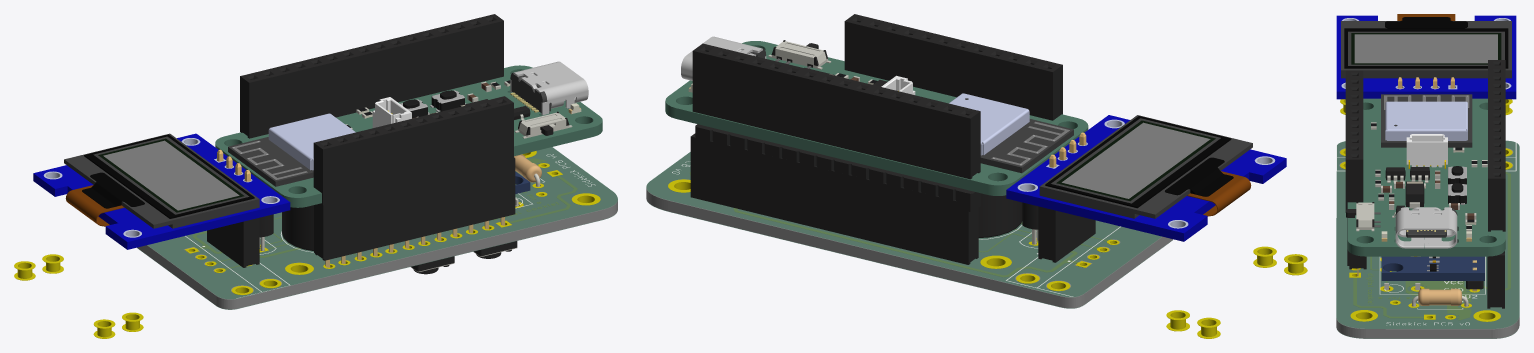
File: sidekick-min-gltfpack.glb
3 renders of one model, left to right at view 1: azimuth 30°, elevation 25°; view 2: azimuth 150°, elevation 25°; view 3: azimuth 270°, elevation 25°, orthographic. The views are drawn at different scales.
Visible parts, largest first — view 1: object 1, object 43, U1 (×2), J2, object 38, object 33, J4, SW2, SW1; view 2: object 1, object 43, U1 (×3), object 38, J4, object 33, U3; view 3: object 1, object 43, object 38, object 33, U1 (×3), J4, SW2, SW1, U2, U3.
Boxes of the visible parts, bbox=[...] form: object 1: bbox=[33, 21, 572, 267]; object 43: bbox=[14, 147, 617, 338]; U1 (×2): bbox=[313, 96, 515, 267]; J2: bbox=[314, 157, 514, 259]; object 38: bbox=[215, 65, 602, 207]; object 33: bbox=[372, 61, 588, 127]; J4: bbox=[240, 14, 503, 138]; SW2: bbox=[430, 90, 465, 111]; SW1: bbox=[473, 198, 518, 258]; object 1: bbox=[690, 40, 1286, 264]; object 43: bbox=[646, 152, 1307, 338]; U1 (×3): bbox=[691, 14, 1062, 264]; object 38: bbox=[665, 41, 1088, 195]; J4: bbox=[693, 43, 980, 178]; object 33: bbox=[681, 36, 915, 94]; U3: bbox=[1038, 206, 1055, 262]; object 1: bbox=[1336, 14, 1516, 306]; object 43: bbox=[1336, 99, 1519, 338]; object 38: bbox=[1347, 98, 1505, 256]; object 33: bbox=[1395, 134, 1457, 248]; U1 (×3): bbox=[1345, 70, 1504, 308]; J4: bbox=[1488, 60, 1505, 231]; SW2: bbox=[1448, 183, 1466, 204]; SW1: bbox=[1448, 166, 1466, 184]; U2: bbox=[1385, 167, 1405, 182]; U3: bbox=[1410, 167, 1429, 182].
Bounding box in the file's own units: 0.084 × 0.0283 × 0.0265.
